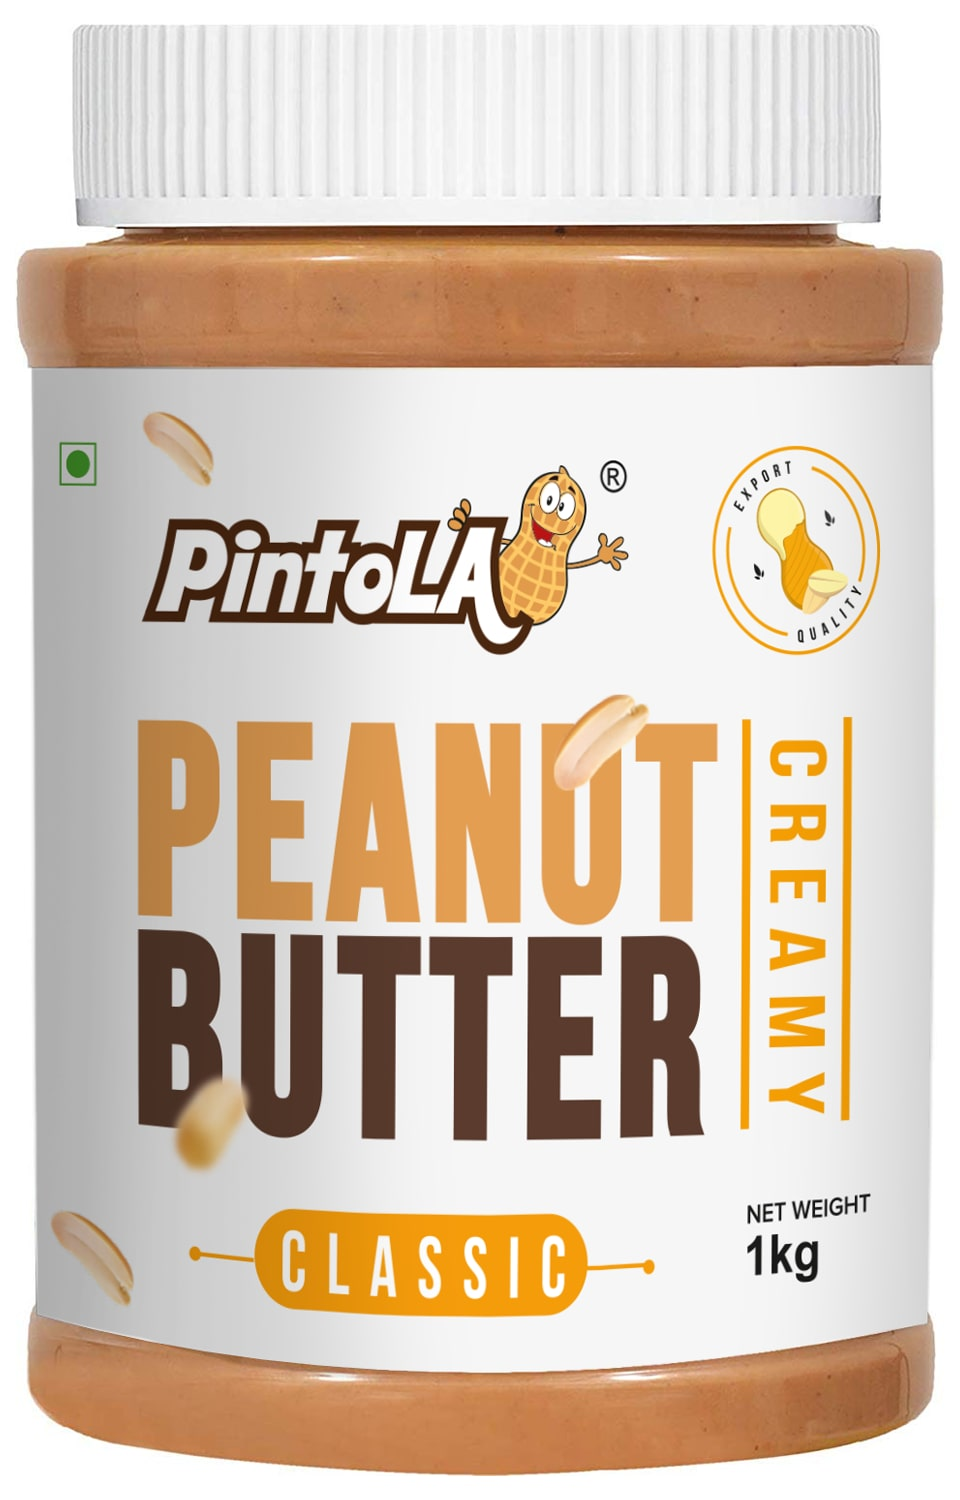JAR: (9, 11, 952, 1486)
